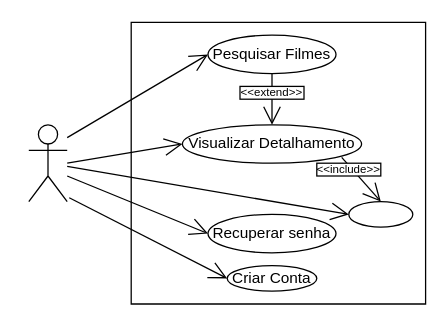
Image size: 448x326. Some labels were removed from this diagram. The shapes that lost their labels are listed below. From the top down, each one's centre as x and y in pixels, then its label:
[47,163]: Usuário
[380,213]: Login
